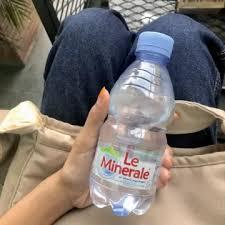BIODEGRADABLE: (92, 22, 178, 224)
